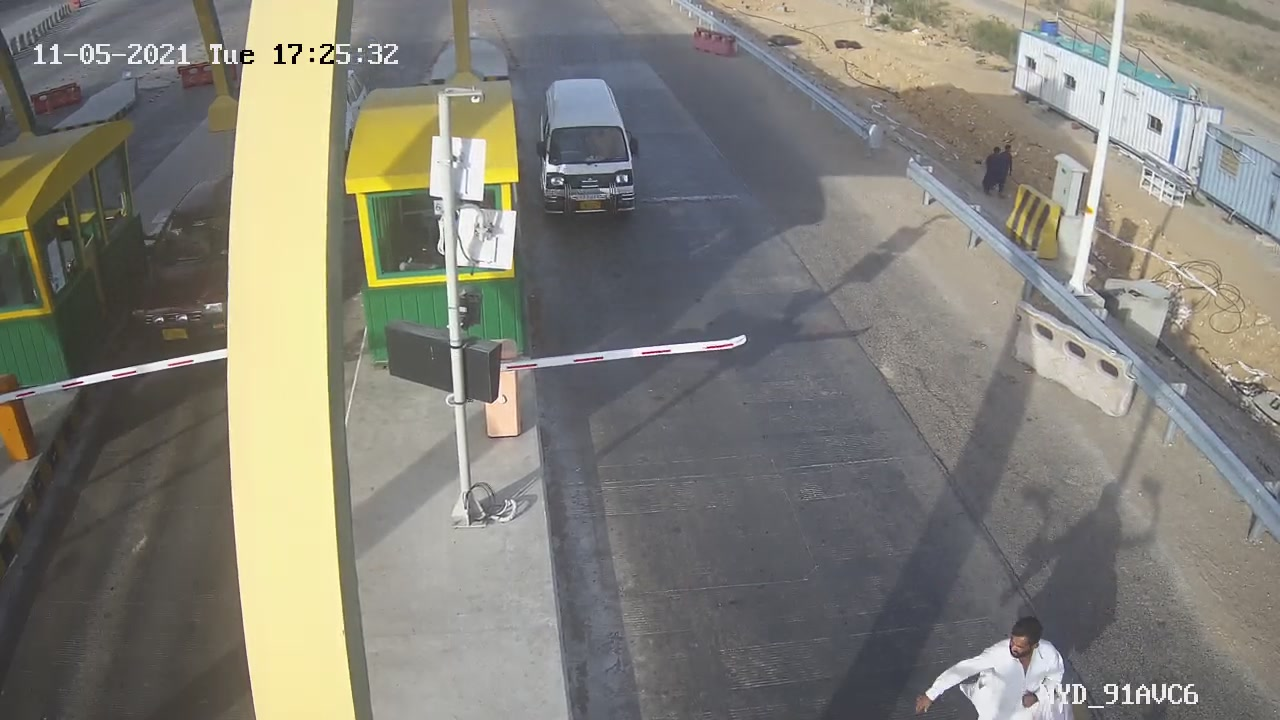F1: (520, 61, 653, 235)
